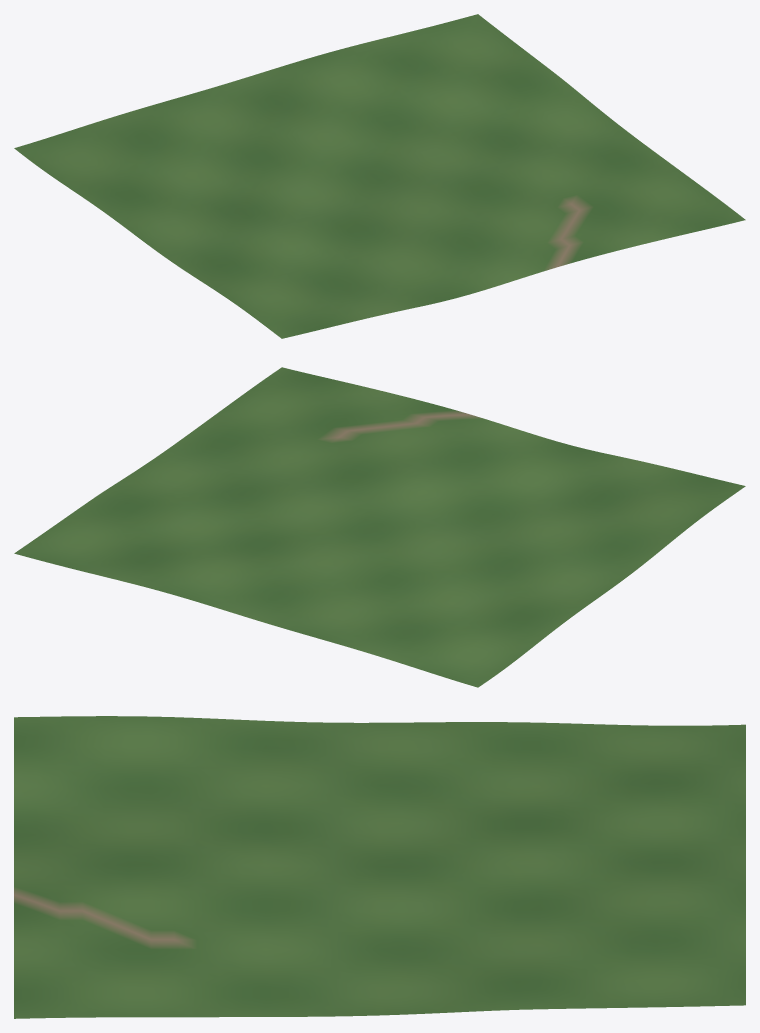
The model's file is chunk_10_2.glb.
3 views of the same model, one above another, from view 1: azimuth 30°, elevation 25°; view 2: azimuth 150°, elevation 25°; view 3: azimuth 270°, elevation 25° (orthographic). The views are drawn at different scales.
Bounding box in the file's own units: 512 × 22.93 × 512.
